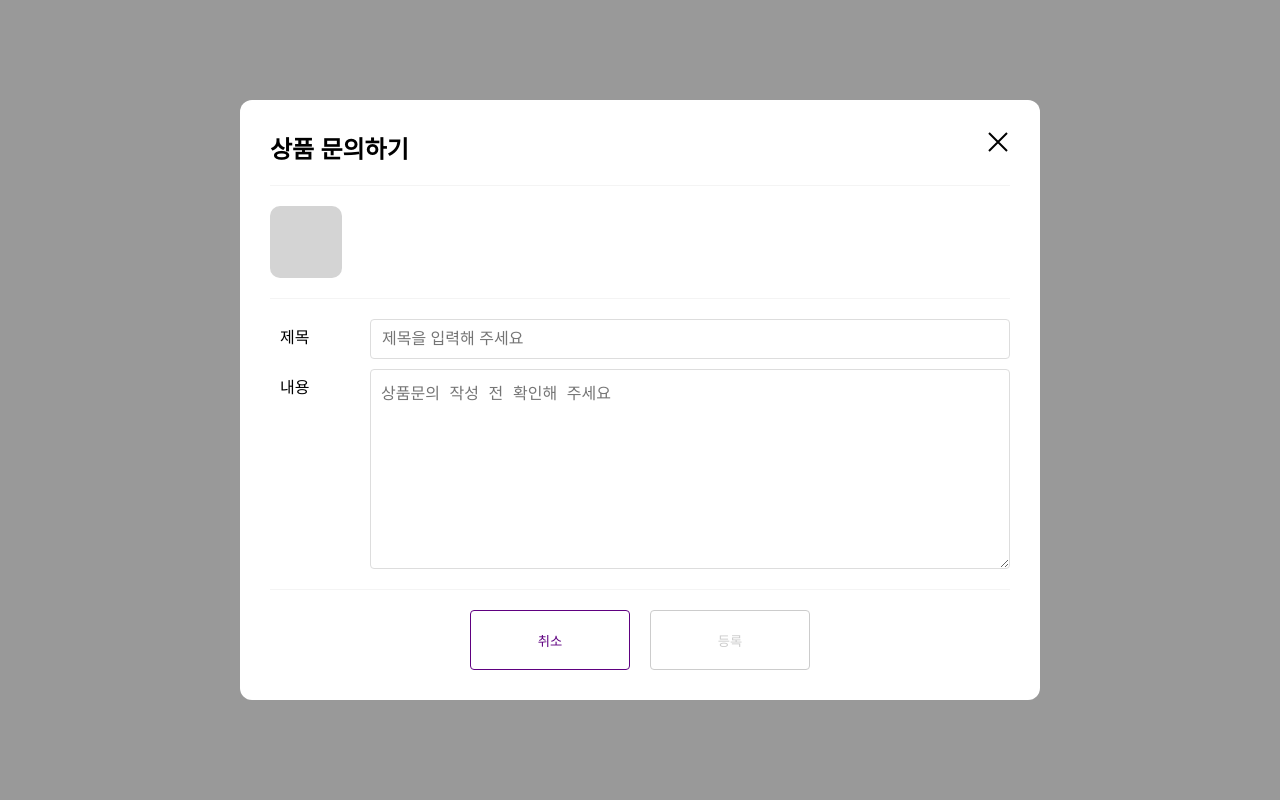
Test: <QuestionModal /> › 모두 입력이 되어야 submit 버튼 활성화
Type "제목 입력" into the field labelled "제목" at (688, 339), box [382,320,994,358]
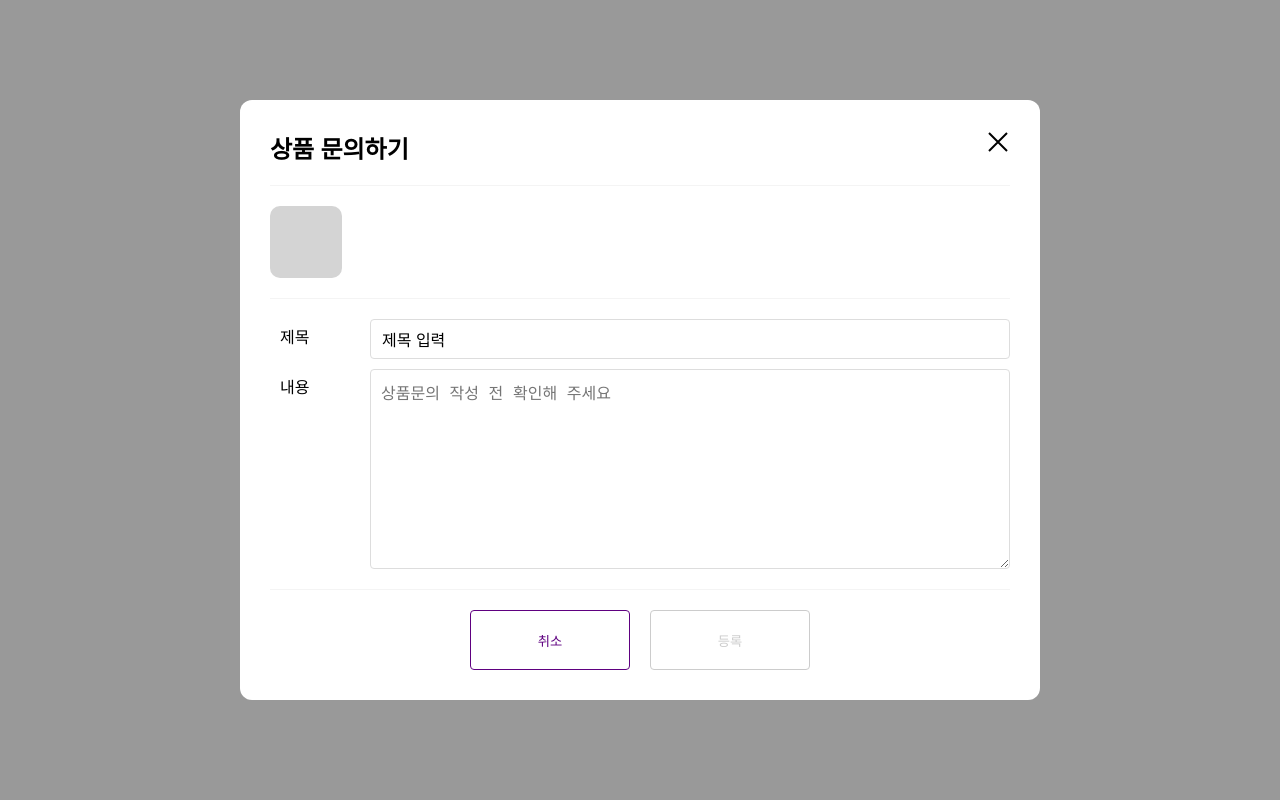
Check: the button "등록" is disabled, box [650,610,810,670]
Type "내용 입력" into the text box labelled "내용" at (690, 469), box [370,369,1010,569]
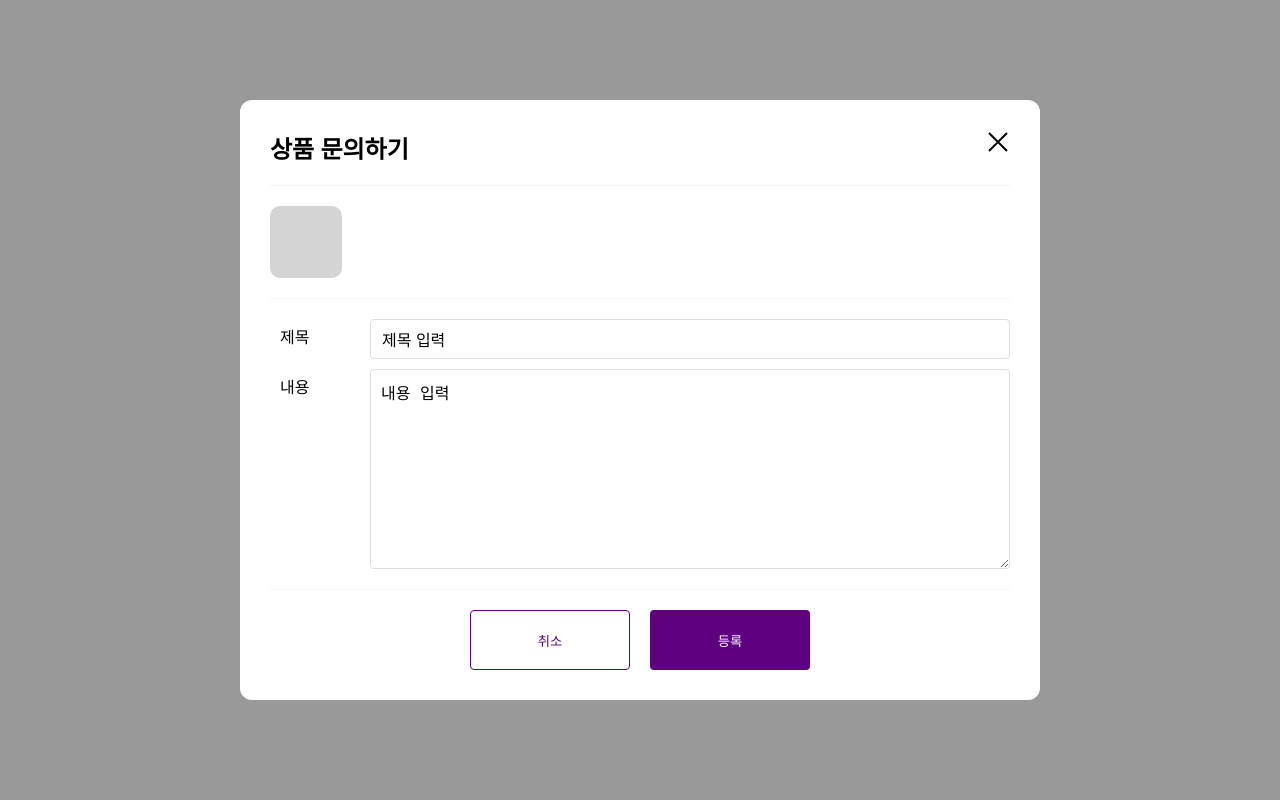
Check: the button "등록" is enabled, box [650,610,810,670]
